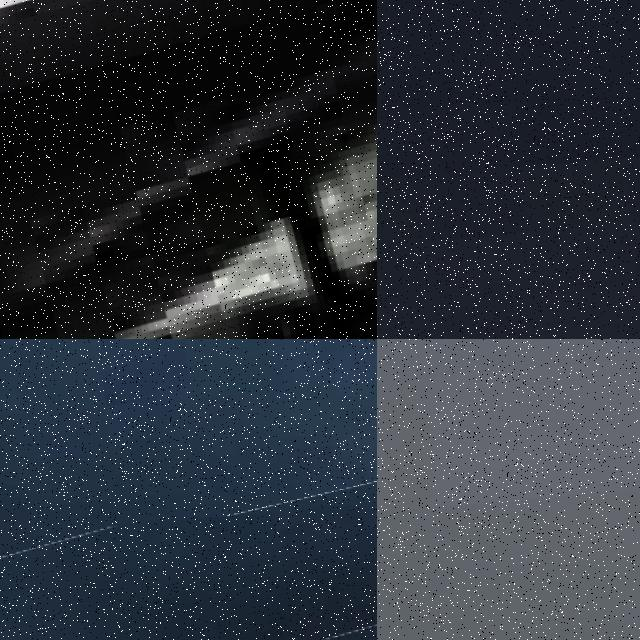drone: (0, 0, 377, 339), (0, 500, 377, 640)
